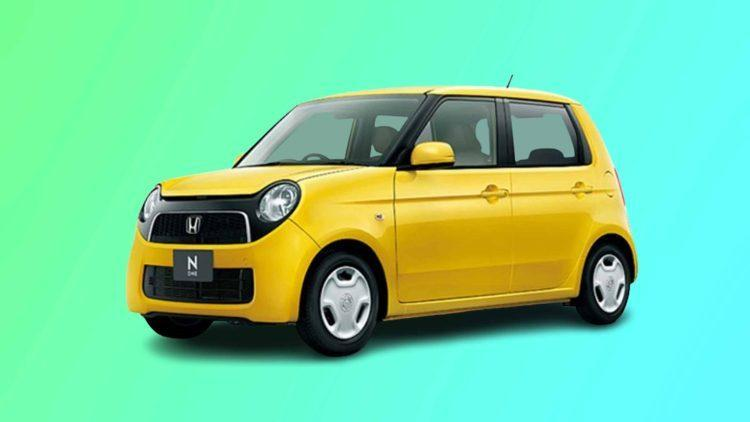Hatchback: (120, 73, 660, 367)
